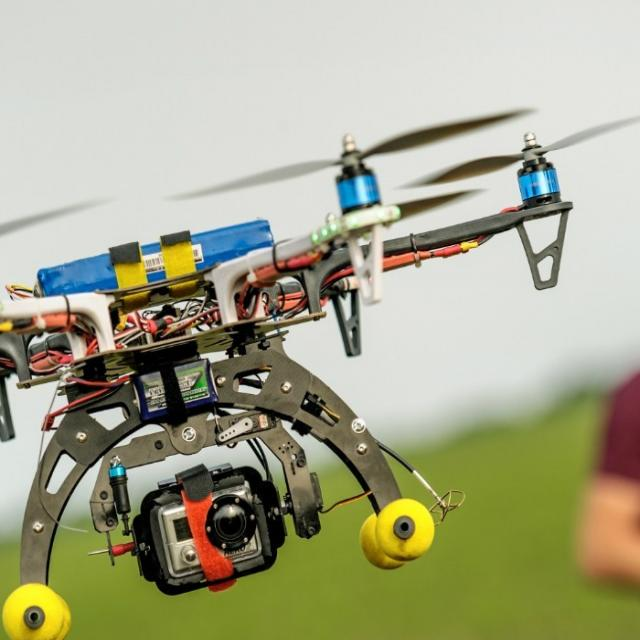drone: (0, 92, 640, 474)
